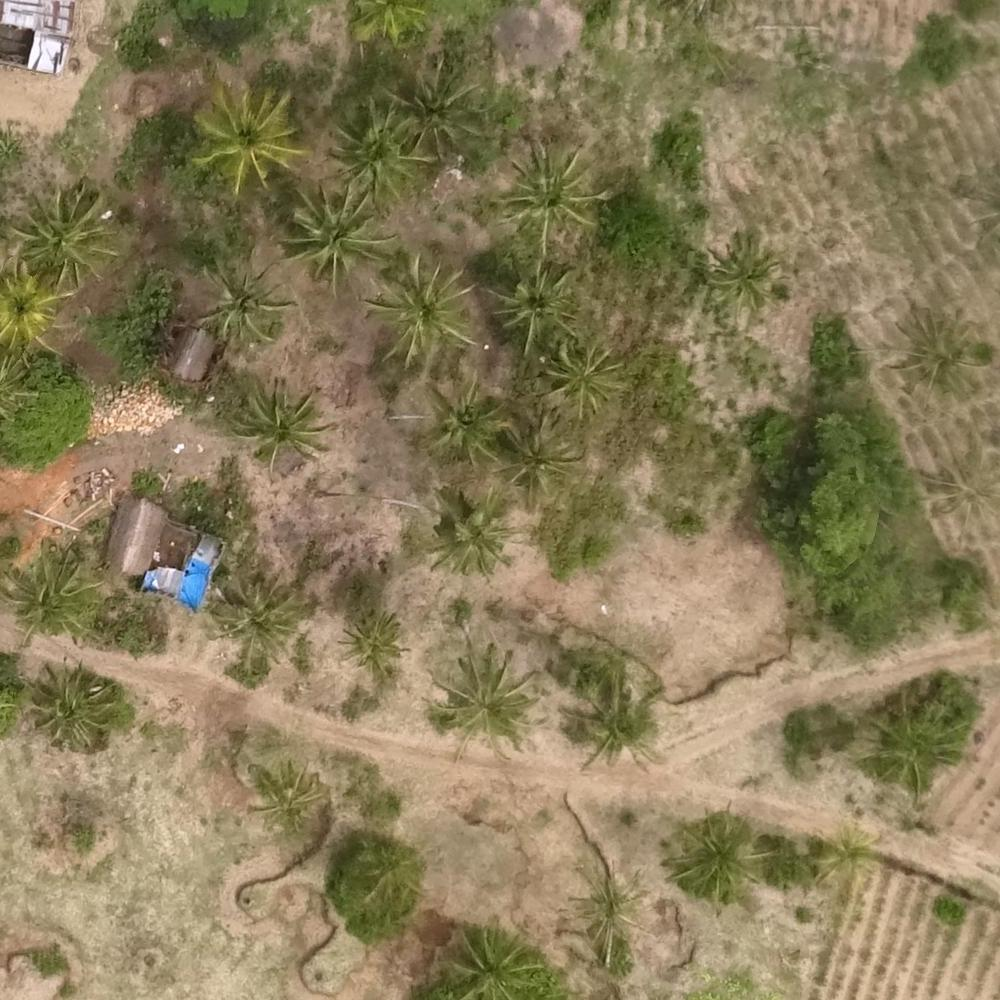Palm: (496, 143, 601, 243), (283, 184, 382, 281), (436, 649, 532, 749), (381, 67, 480, 158), (433, 918, 539, 1000), (193, 257, 283, 352), (325, 109, 421, 198), (197, 88, 292, 177), (669, 814, 759, 907), (234, 377, 326, 466), (17, 192, 109, 280), (496, 417, 584, 508), (486, 259, 576, 346), (9, 548, 94, 640), (897, 311, 985, 396), (419, 377, 504, 464), (425, 492, 513, 575), (31, 661, 112, 749), (707, 232, 781, 321), (541, 339, 619, 420), (212, 578, 291, 652), (248, 764, 317, 833), (340, 613, 408, 672)
